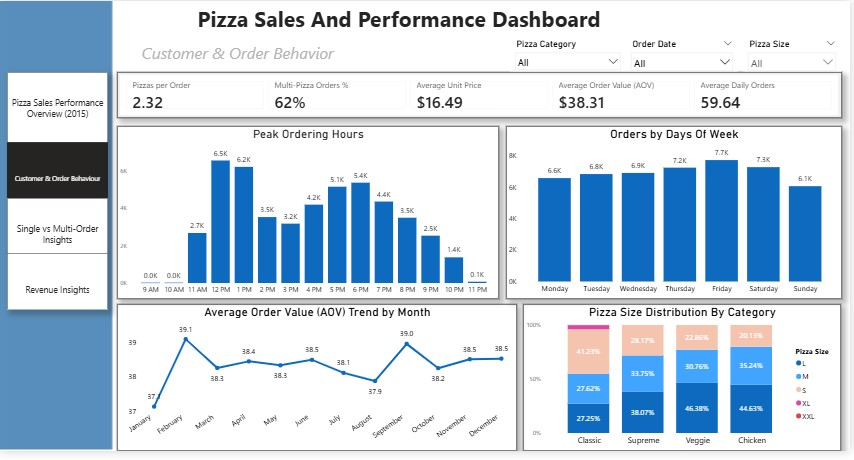

The page's visual inventory and layout, read from the dashboard file:
{"tool":"powerbi","page":{"name":"Customer & Order Behaviour","canvas":[1700,900],"ordinal":1},"visuals":[{"type":"cardVisual","fields":{"Data":["Sheet1.Pizzas per Order","Sheet1.Multi-Pizza Orders %","Sheet1.Average Unit Price","Sheet1.Average Order Value (AOV)","Sheet1.Average Daily Orders"]},"box":[234,142,1450,92],"z":0},{"type":"textbox","box":[278,0,1040,70],"z":1000},{"type":"slicer","title":"Order Date","fields":{"Values":["Sheet1.order_date"]},"box":[1252,70,224,72],"z":2000},{"type":"slicer","fields":{"Values":["Sheet1.pizza_category"]},"box":[1020,70,232,72],"z":3000},{"type":"slicer","fields":{"Values":["Sheet1.pizza_size"]},"box":[1486,70,196,72],"z":4000},{"type":"clusteredColumnChart","title":"Peak Ordering Hours","fields":{"Y":["CountNonNull(Sheet1.order_id)"],"Category":["Hour.HourLabel"]},"box":[234,250,764,346],"z":5000},{"type":"lineChart","title":"Average Order Value (AOV) Trend by Month","fields":{"Y":["Sheet1.Average Order Value (AOV)"],"Category":["Sheet1.Month"]},"box":[234,606,800,294],"z":6000},{"type":"clusteredColumnChart","title":"Orders by Days Of Week","fields":{"Category":["Sheet1.DaysOfWeek"],"Y":["CountNonNull(Sheet1.order_id)"]},"box":[1012,250,672,346],"z":7000},{"type":"hundredPercentStackedColumnChart","title":"Pizza Size Distribution By Category","fields":{"Category":["Sheet1.pizza_category"],"Y":["Sum(Sheet1.quantity)"],"Series":["Sheet1.pizza_size"]},"box":[1046,606,636,294],"z":8000},{"type":"textbox","box":[278,76,742,58],"z":9000},{"type":"pageNavigator","box":[14,142,202,476],"z":10000}]}

Visuals, with their boxes in screenshot pixels (x1, y1, x2, y2), scaled from the page's 1700x900 canvas onto the 854x460 screenshot:
cardVisual - Sheet1.Pizzas per Order x Sheet1.Multi-Pizza Orders %: <bbox>118, 73, 846, 120</bbox>
textbox: <bbox>140, 0, 662, 36</bbox>
"Order Date" slicer: <bbox>629, 36, 741, 73</bbox>
slicer - Sheet1.pizza_category: <bbox>512, 36, 629, 73</bbox>
slicer - Sheet1.pizza_size: <bbox>746, 36, 845, 73</bbox>
"Peak Ordering Hours" clusteredColumnChart: <bbox>118, 128, 501, 305</bbox>
"Average Order Value (AOV) Trend by Month" lineChart: <bbox>118, 310, 519, 459</bbox>
"Orders by Days Of Week" clusteredColumnChart: <bbox>508, 128, 846, 305</bbox>
"Pizza Size Distribution By Category" hundredPercentStackedColumnChart: <bbox>525, 310, 845, 459</bbox>
textbox: <bbox>140, 39, 512, 68</bbox>
pageNavigator: <bbox>7, 73, 109, 316</bbox>
